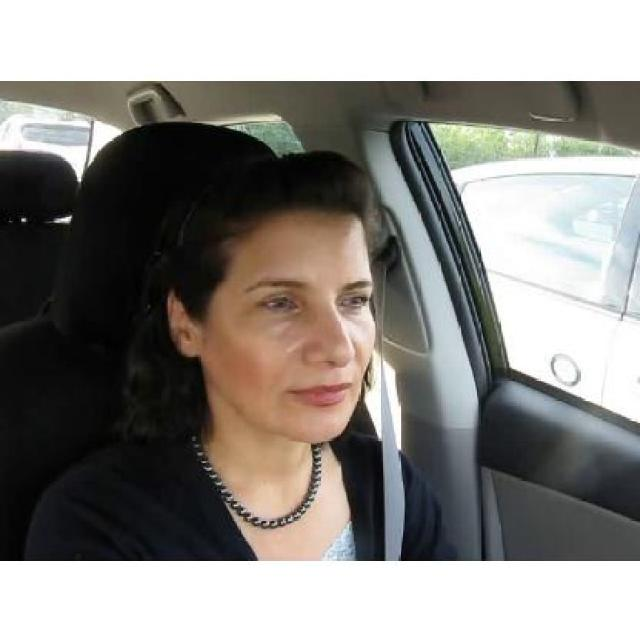attentif: (167, 151, 375, 440)
